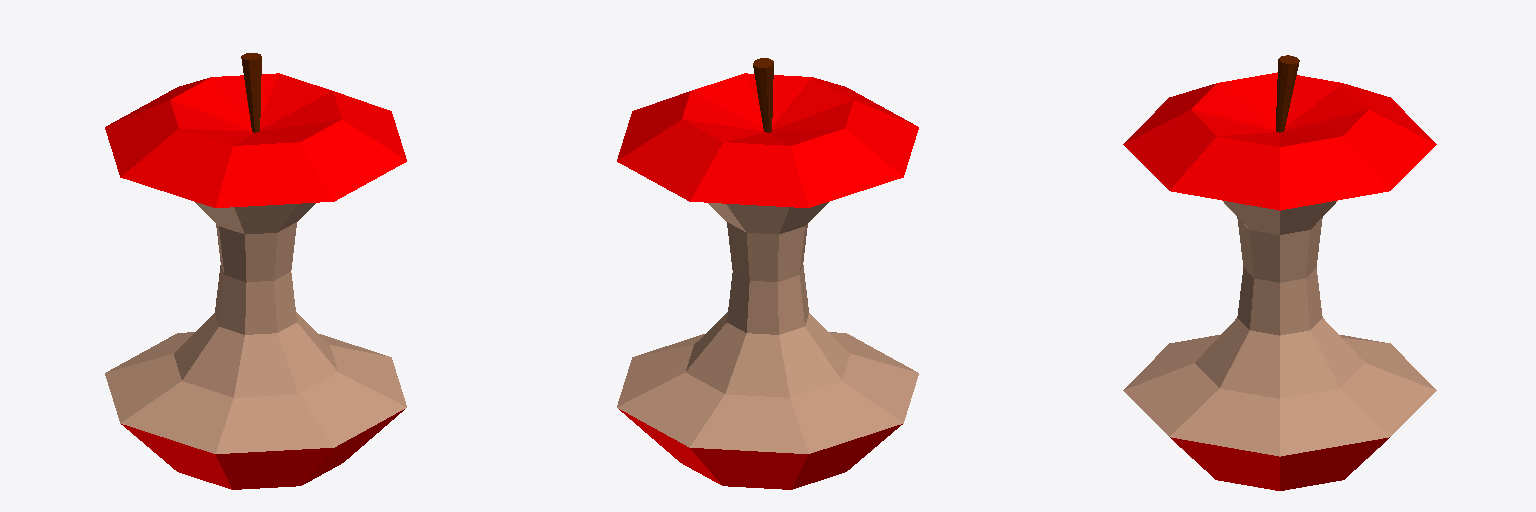
3 renders of one model, left to right at view 1: azimuth 30°, elevation 25°; view 2: azimuth 150°, elevation 25°; view 3: azimuth 270°, elevation 25°, orthographic.
Parts seen in each view (by area): view 1: Sphere_Sphere.001; view 2: Sphere_Sphere.001; view 3: Sphere_Sphere.001.
Boxes of the visible parts, box(x1,y1,x2,y2) form: Sphere_Sphere.001: box(105, 53, 406, 489); Sphere_Sphere.001: box(617, 58, 918, 489); Sphere_Sphere.001: box(1123, 55, 1436, 490).
Bounding box in the file's own units: 1.04 × 1.44 × 1.04.
Materials: 1 (1 with a texture image).